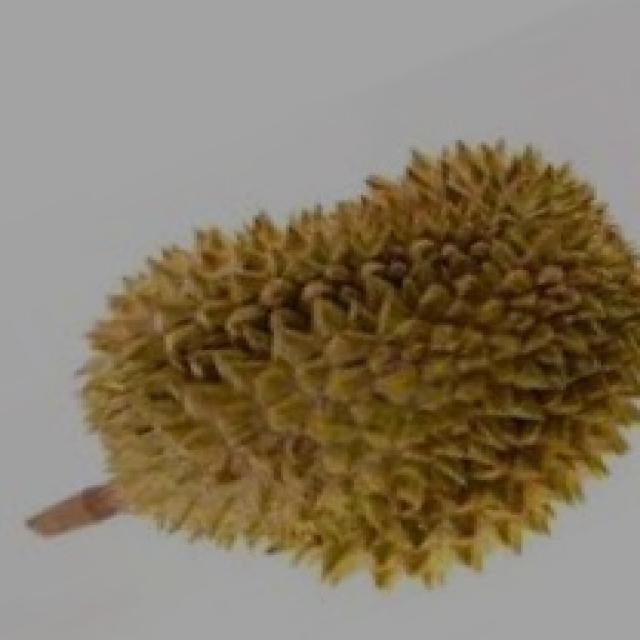fruit: (267, 209, 640, 632), (28, 207, 378, 625)
